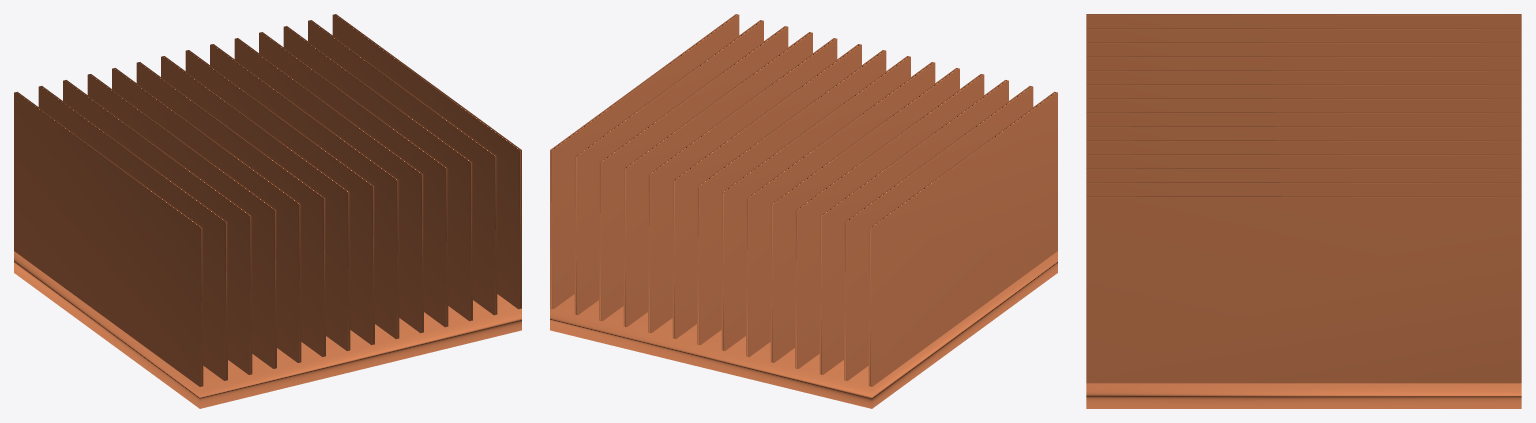
File: heatsink.glb
3 views of the same model, side by side, from view 1: azimuth 30°, elevation 25°; view 2: azimuth 150°, elevation 25°; view 3: azimuth 270°, elevation 25° (orthographic). The views are drawn at different scales.
Visible parts, largest first — view 1: fin_00, base, fin_10, fin_11, fin_12, fin_01, fin_08, fin_13, fin_02, fin_04, fin_05, fin_06 (+3 smaller); view 2: fin_00, base, fin_10, fin_11, fin_12, fin_01, fin_08, fin_13, fin_02, fin_04, fin_05, fin_06 (+3 smaller); view 3: fin_13, base, fin_00, fin_01, fin_02, fin_03, fin_04, fin_05, fin_06, fin_07, fin_08, fin_09 (+3 smaller).
Part boxes in pixels (left/top/right/bottom): fin_00: left=14, top=91, right=203, bottom=386; base: left=14, top=251, right=521, bottom=408; fin_10: left=259, top=32, right=448, bottom=327; fin_11: left=283, top=26, right=472, bottom=321; fin_12: left=308, top=20, right=497, bottom=315; fin_01: left=38, top=86, right=227, bottom=380; fin_08: left=210, top=44, right=399, bottom=338; fin_13: left=332, top=14, right=521, bottom=309; fin_02: left=63, top=80, right=252, bottom=374; fin_04: left=112, top=68, right=301, bottom=362; fin_05: left=136, top=62, right=325, bottom=356; fin_06: left=161, top=56, right=350, bottom=350; fin_00: left=868, top=91, right=1057, bottom=386; base: left=550, top=251, right=1057, bottom=408; fin_10: left=623, top=32, right=812, bottom=327; fin_11: left=599, top=26, right=788, bottom=321; fin_12: left=574, top=20, right=763, bottom=315; fin_01: left=844, top=86, right=1033, bottom=380; fin_08: left=672, top=44, right=861, bottom=338; fin_13: left=550, top=14, right=739, bottom=309; fin_02: left=819, top=80, right=1008, bottom=374; fin_04: left=770, top=68, right=959, bottom=362; fin_05: left=746, top=62, right=935, bottom=356; fin_06: left=721, top=56, right=910, bottom=350; fin_13: left=1086, top=196, right=1521, bottom=383; base: left=1086, top=383, right=1521, bottom=408; fin_00: left=1086, top=14, right=1521, bottom=27; fin_01: left=1086, top=28, right=1521, bottom=41; fin_02: left=1086, top=42, right=1521, bottom=55; fin_03: left=1086, top=56, right=1521, bottom=69; fin_04: left=1086, top=70, right=1521, bottom=83; fin_05: left=1086, top=84, right=1521, bottom=97; fin_06: left=1086, top=98, right=1521, bottom=111; fin_07: left=1086, top=112, right=1521, bottom=125; fin_08: left=1086, top=126, right=1521, bottom=139; fin_09: left=1086, top=140, right=1521, bottom=153.
Bounding box in the file's own units: 0.1 × 0.0535 × 0.1.
